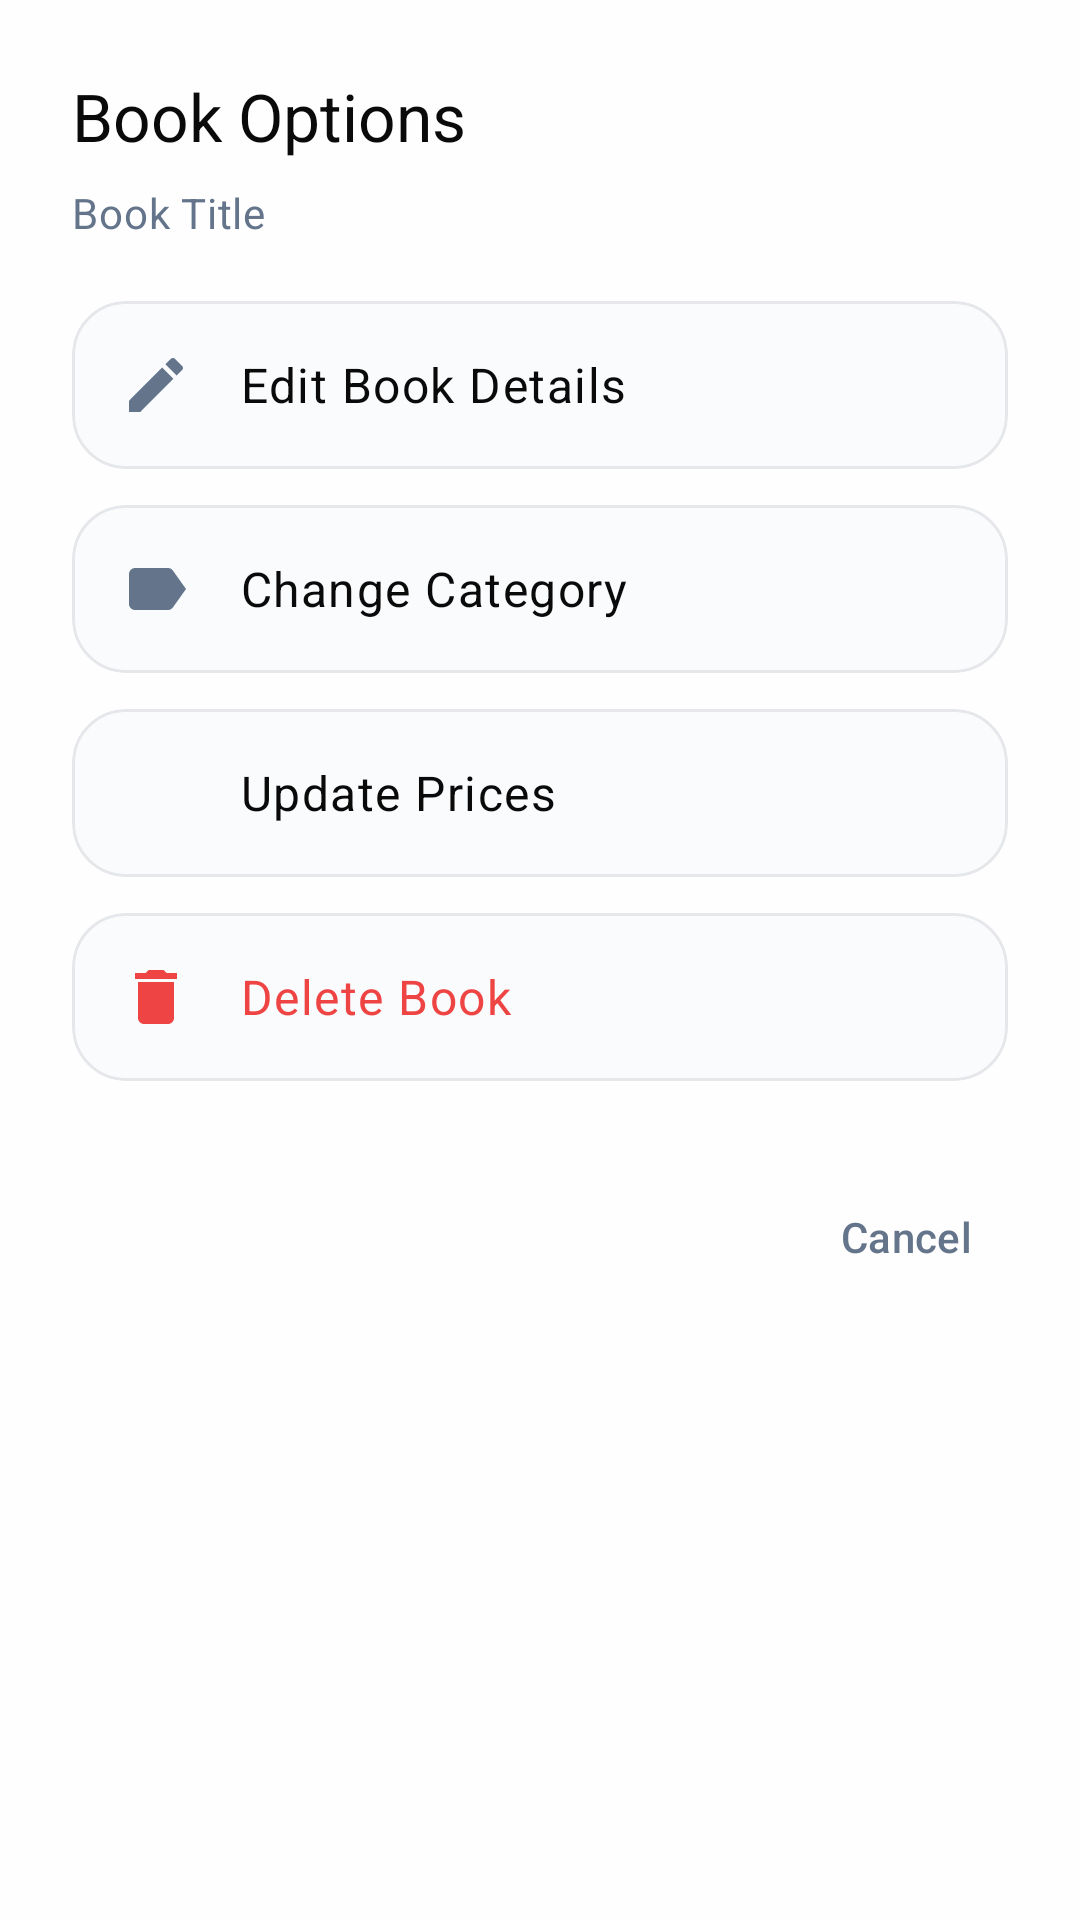

Locate icon controls on the screen. Image size 1080 × 1920, boxes as (x1, y1, x2, y2).
label: (129, 568, 186, 610)
